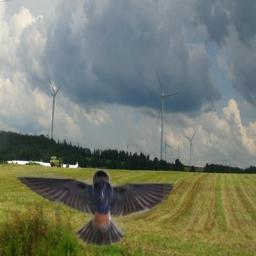Swallow: (11, 167, 177, 247)
